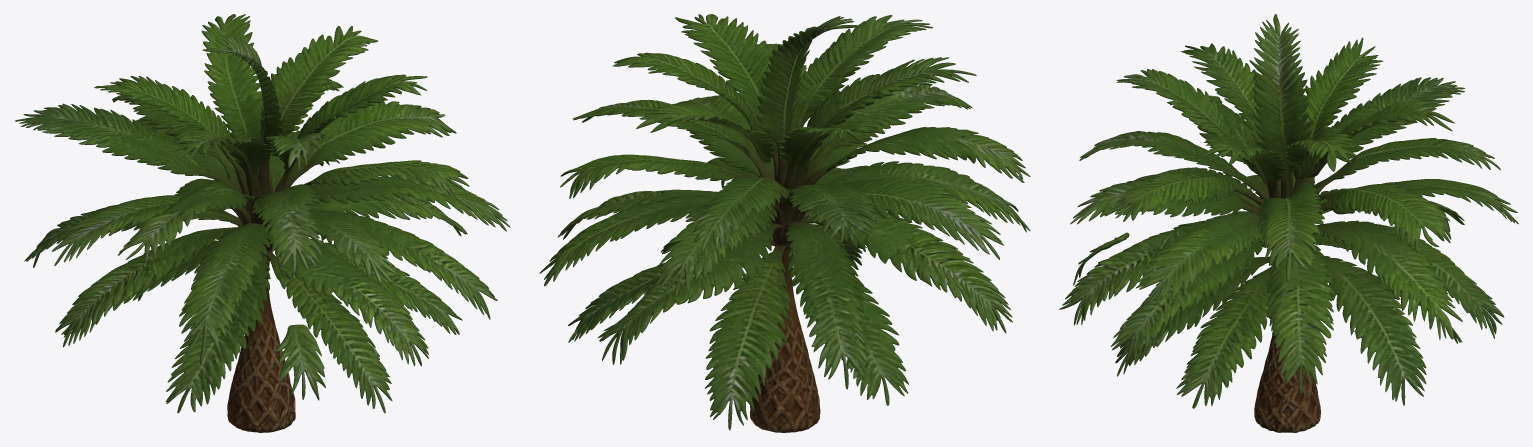
Rendered from cycad-palm.glb.
3 renders of one model, left to right at view 1: azimuth 30°, elevation 25°; view 2: azimuth 150°, elevation 25°; view 3: azimuth 270°, elevation 25°, orthographic. The views are drawn at different scales.
Visible parts, largest first — view 1: tripo_node_b599eac9-3f96-440a-8d7e-cbf4584860de; view 2: tripo_node_b599eac9-3f96-440a-8d7e-cbf4584860de; view 3: tripo_node_b599eac9-3f96-440a-8d7e-cbf4584860de.
Boxes of the visible parts, x1,y1,x2,y2 form: tripo_node_b599eac9-3f96-440a-8d7e-cbf4584860de: (14, 14, 510, 432); tripo_node_b599eac9-3f96-440a-8d7e-cbf4584860de: (539, 14, 1030, 432); tripo_node_b599eac9-3f96-440a-8d7e-cbf4584860de: (1059, 14, 1518, 432).
Bounding box in the file's own units: 0.9796 × 0.8837 × 0.9788.
1 material, 1 textured.
